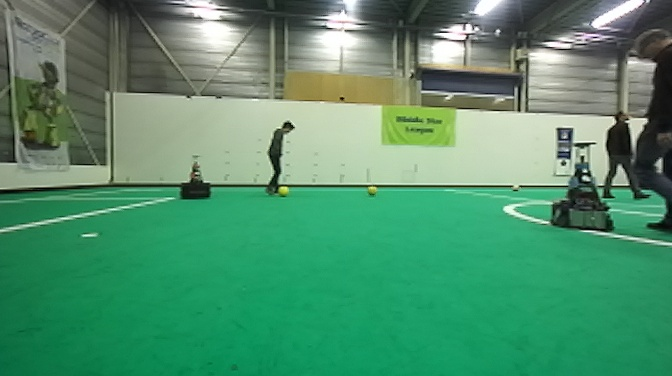ball: (364, 183, 378, 197), (277, 183, 290, 197), (509, 181, 521, 194)
human: (631, 24, 672, 232), (603, 109, 649, 200), (264, 120, 298, 198)
robot: (549, 139, 616, 232), (177, 153, 215, 201)
